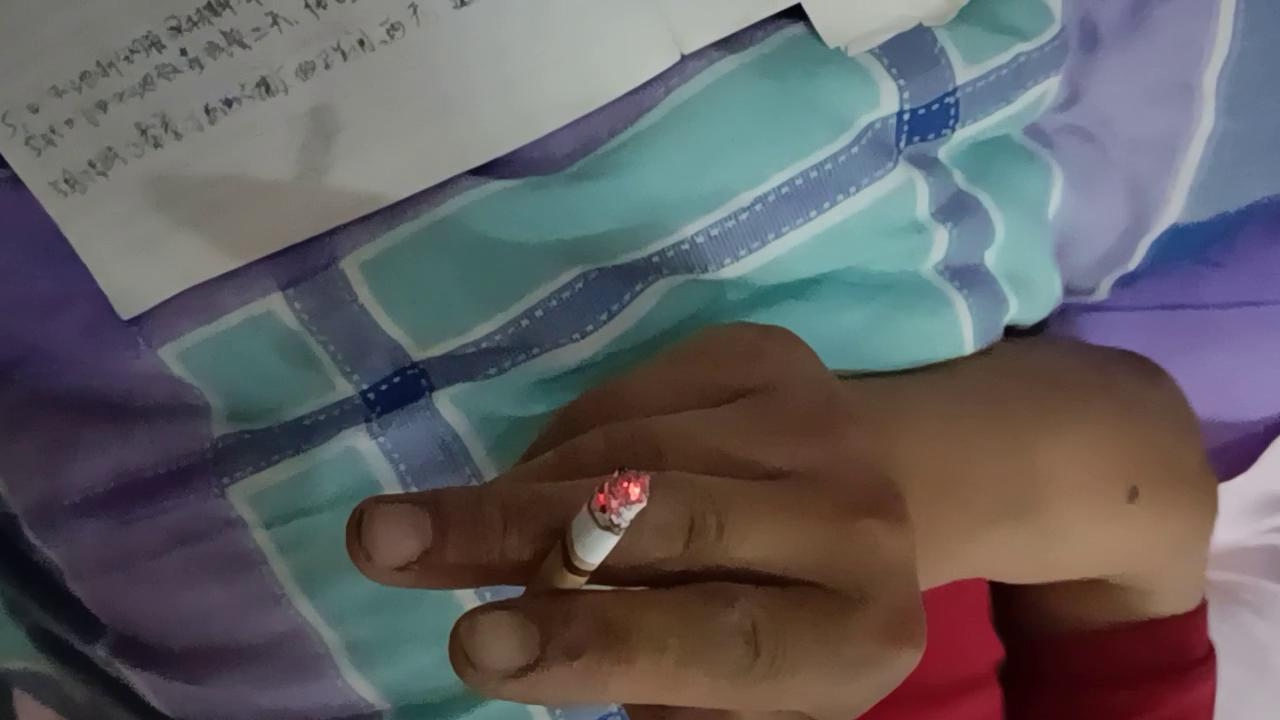smoke: (505, 467, 650, 638)
